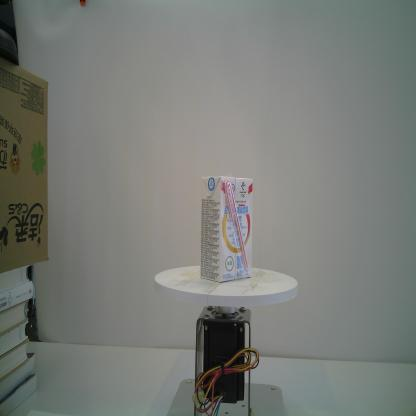Milk: (199, 175, 253, 283)
